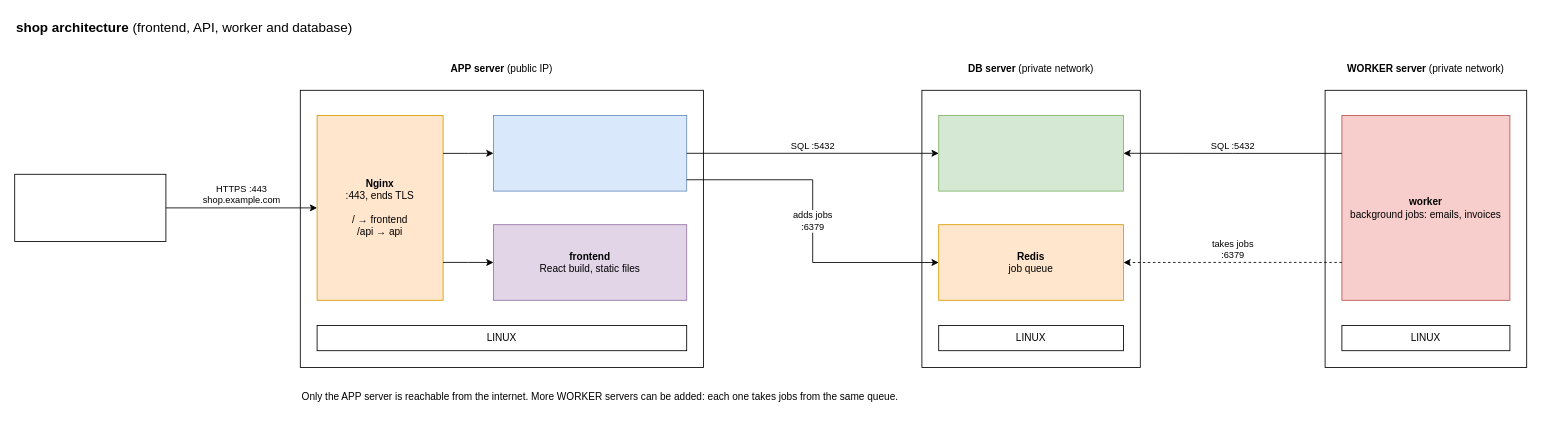
This 1550x423 diagram has some shape labels left out. Each missing label, with the box of its shape:
api :8000 REST: users, orders, payments: (493, 115, 687, 191)
Postgres users, orders: (938, 115, 1124, 191)
Visitor browser: (14, 173, 166, 242)
